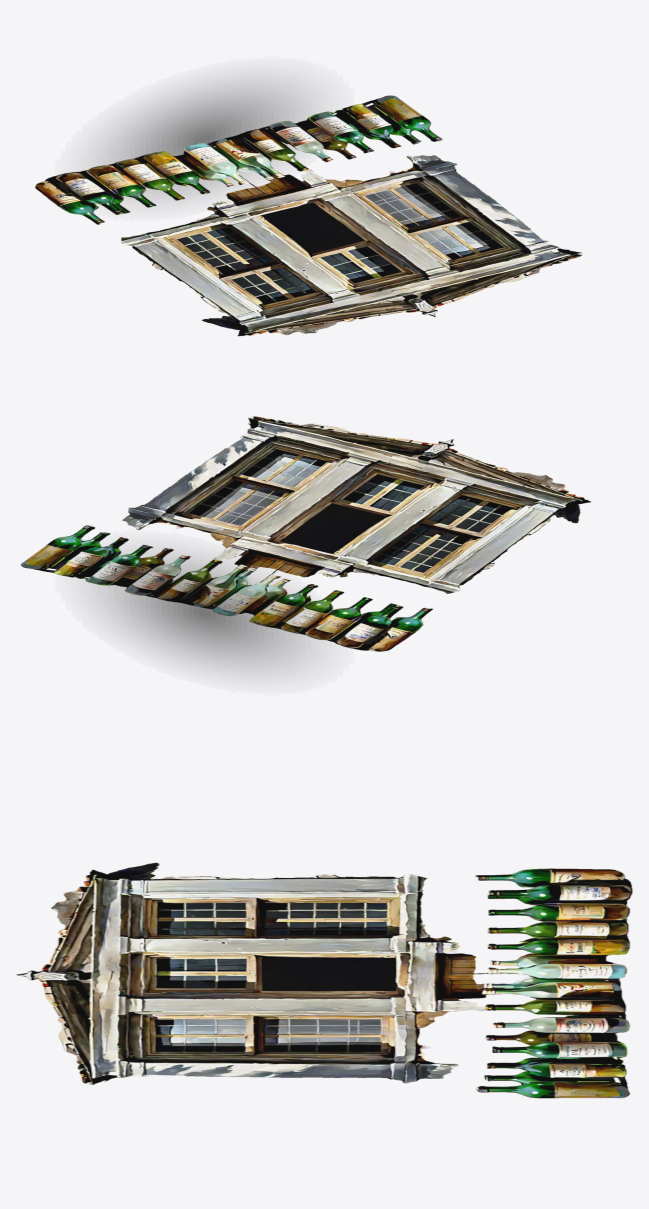
File: boss-dom.glb
3 views of the same model, one above another, from view 1: azimuth 30°, elevation 25°; view 2: azimuth 150°, elevation 25°; view 3: azimuth 270°, elevation 25° (orthographic). The views are drawn at different scales.
Parts seen in each view (by area): view 1: Body, Shadow; view 2: Body, Shadow; view 3: Body.
Boxes of the visible parts, box(x1,y1,x2,y2) form: Body: box(35, 95, 582, 336); Shadow: box(103, 82, 305, 195); Body: box(20, 416, 591, 651); Shadow: box(103, 556, 305, 669); Body: box(16, 862, 632, 1098).
Size of the model in its own units: 1 by 0.42 by 1.1.
2 materials, 2 textured.
